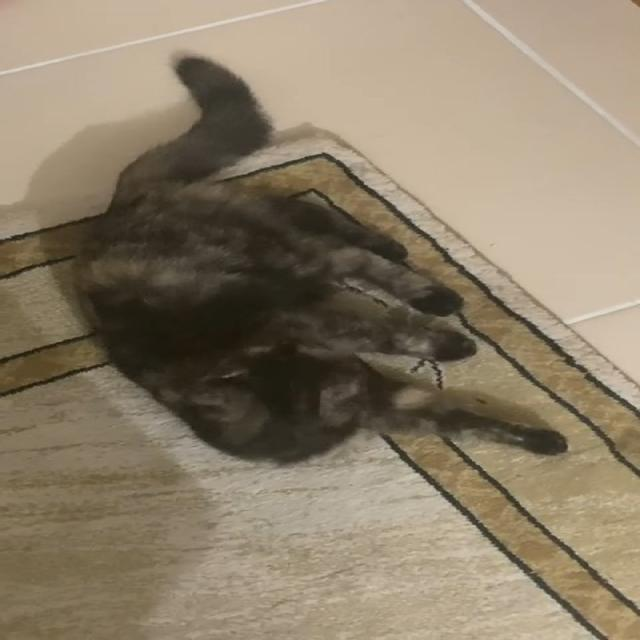authorized: (68, 51, 569, 466)
